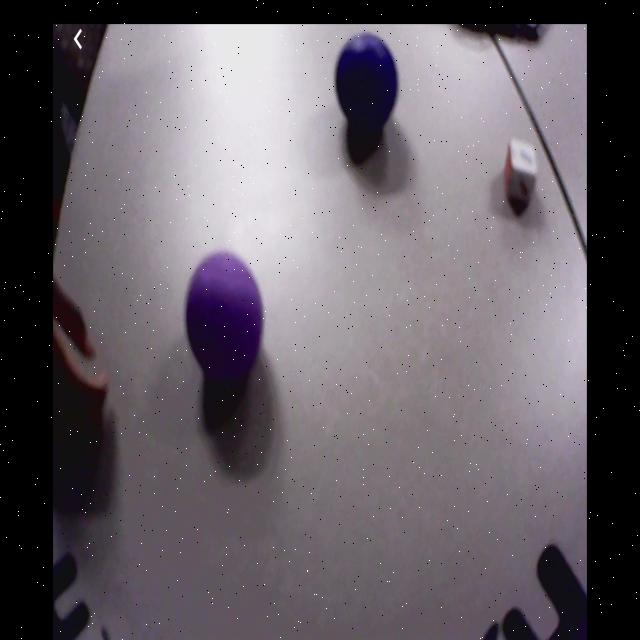ball: (187, 252, 263, 381), (336, 34, 399, 131)
